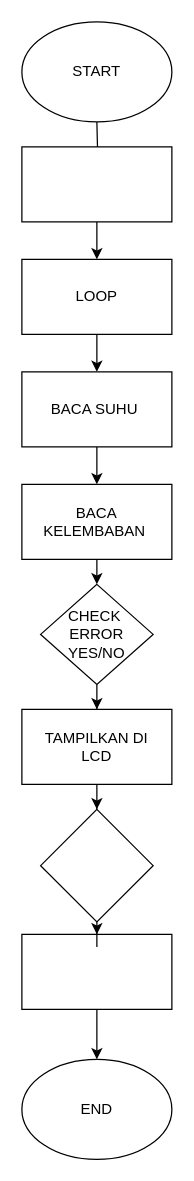
Some shapes in this 194 by 1181 pixel diagram are drawn without their labels. The shapes that lost their labels are listed below. From the top down, each one's centre as x and y in pixels, then its label:
[96,184]: SETUP
[96,865]: SUHU (DERAJAT)
[96,971]: DELAY
